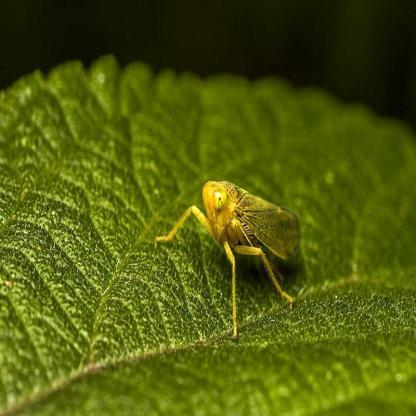green-leafhopper: (151, 177, 301, 338)
